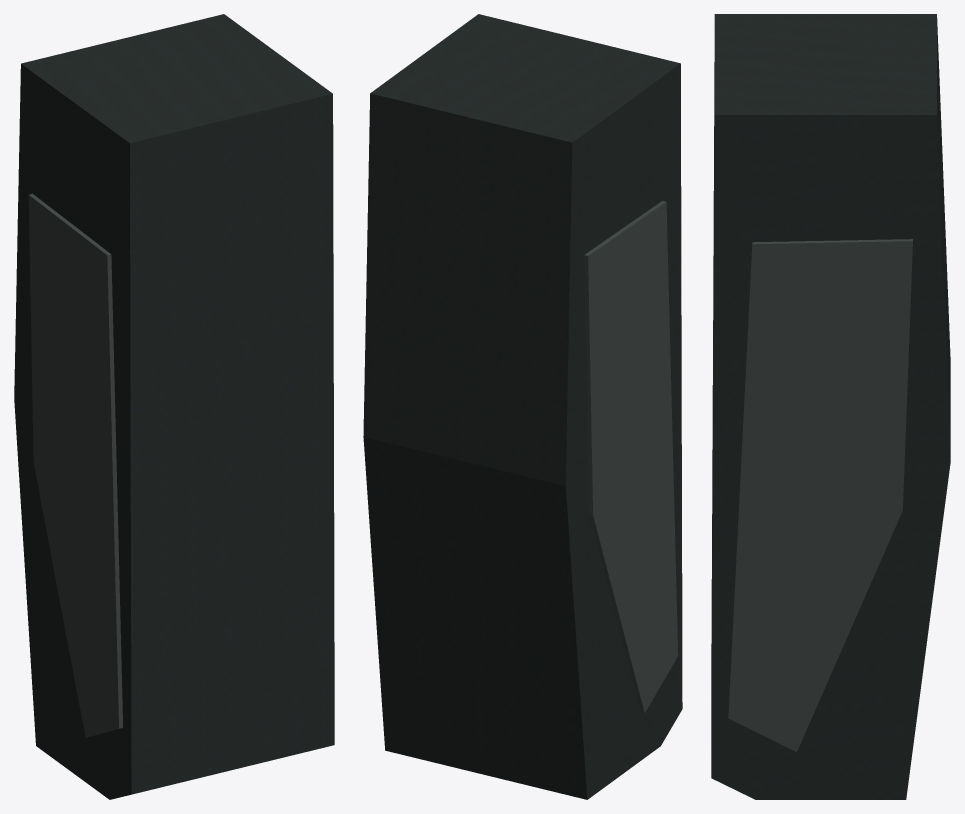
Rendered from g36_grip.glb.
3 views of the same model, side by side, from view 1: azimuth 30°, elevation 25°; view 2: azimuth 150°, elevation 25°; view 3: azimuth 270°, elevation 25° (orthographic). The views are drawn at different scales.
Visible parts, largest first — view 1: g36_grip_item_profile, g36_grip_item_profile.001, g36_grip_molded_panel; view 2: g36_grip_item_profile, g36_grip_item_profile.001, g36_grip_molded_panel; view 3: g36_grip_item_profile, g36_grip_molded_panel, g36_grip_item_profile.001.
Boxes of the visible parts, bbox=[...] form: g36_grip_item_profile: bbox=[20, 19, 327, 791]; g36_grip_item_profile.001: bbox=[14, 14, 334, 799]; g36_grip_molded_panel: bbox=[28, 193, 122, 737]; g36_grip_item_profile: bbox=[370, 19, 678, 790]; g36_grip_item_profile.001: bbox=[363, 14, 682, 799]; g36_grip_molded_panel: bbox=[584, 201, 678, 713]; g36_grip_item_profile: bbox=[720, 17, 950, 792]; g36_grip_molded_panel: bbox=[728, 239, 912, 752]; g36_grip_item_profile.001: bbox=[711, 14, 950, 799].
Bounding box in the file's own units: 0.0728 × 0.221 × 0.07.
2 materials, 1 textured.
